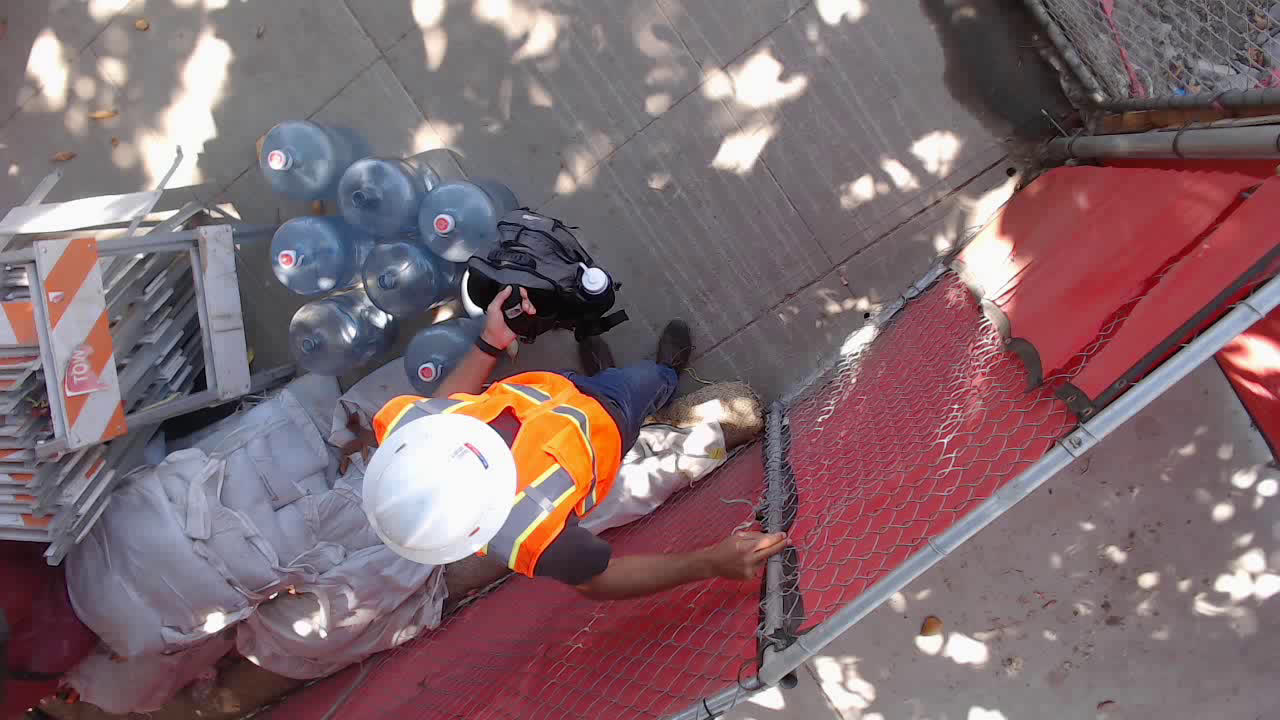hardhat: (358, 409, 519, 568)
safetyvest: (375, 372, 623, 569)
